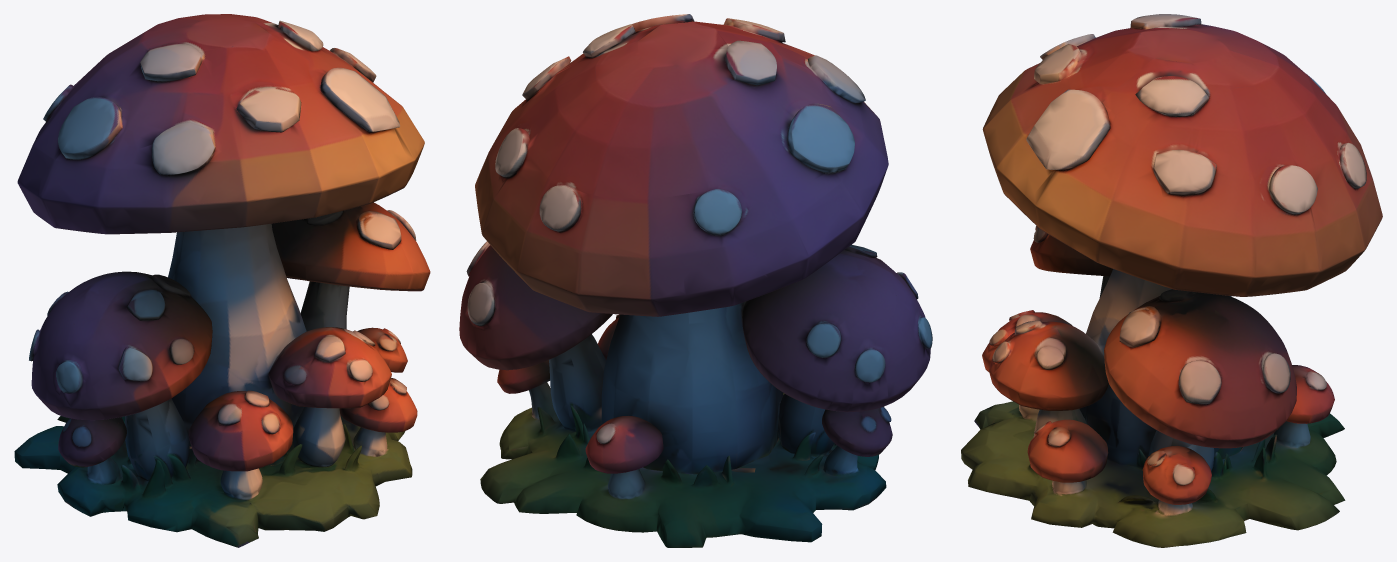
File: mushroom.glb
The picture shows the model from 3 angles, left to right: view 1: azimuth 30°, elevation 25°; view 2: azimuth 150°, elevation 25°; view 3: azimuth 270°, elevation 25°; orthographic projection. The views are drawn at different scales.
Parts seen in each view (by area): view 1: node_0; view 2: node_0; view 3: node_0.
Part boxes in pixels (bbox=[...]): node_0: bbox=[14, 14, 430, 547]; node_0: bbox=[459, 14, 932, 547]; node_0: bbox=[961, 14, 1382, 547].
Bounding box in the file's own units: 0.8736 × 0.8756 × 0.7868.
Materials: 1 (1 with a texture image).
